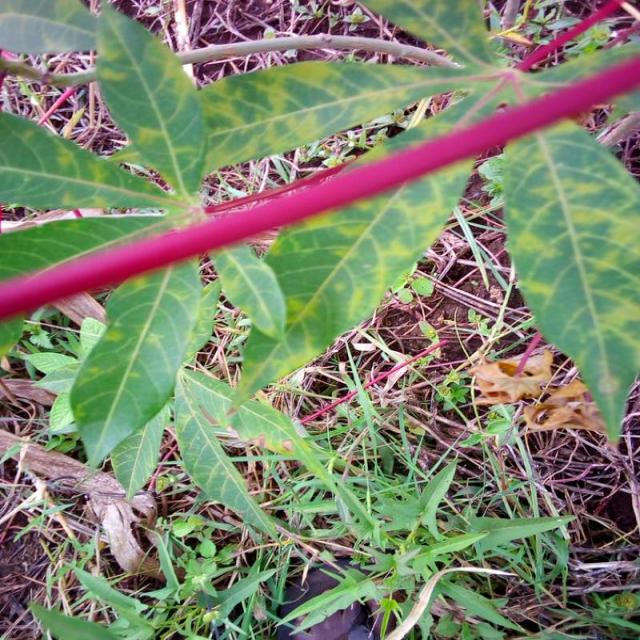cassava leaf: (229, 116, 476, 407), (499, 115, 638, 446), (68, 250, 220, 472), (92, 1, 206, 202)
